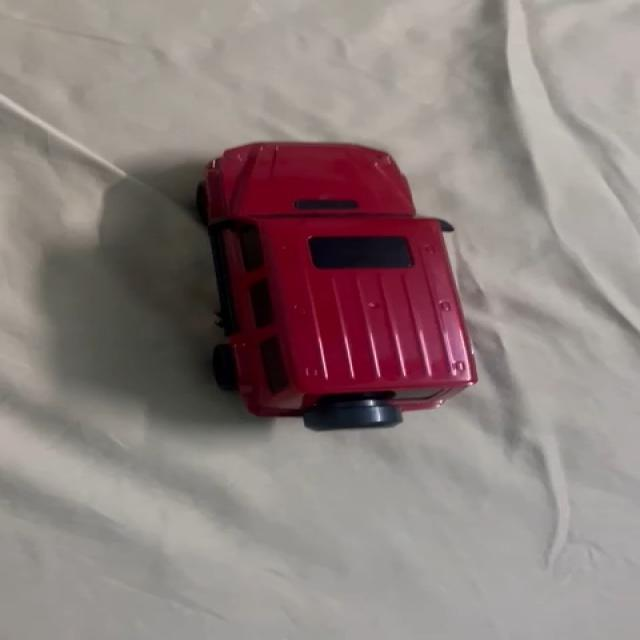light_vehicle: (179, 132, 481, 442)
